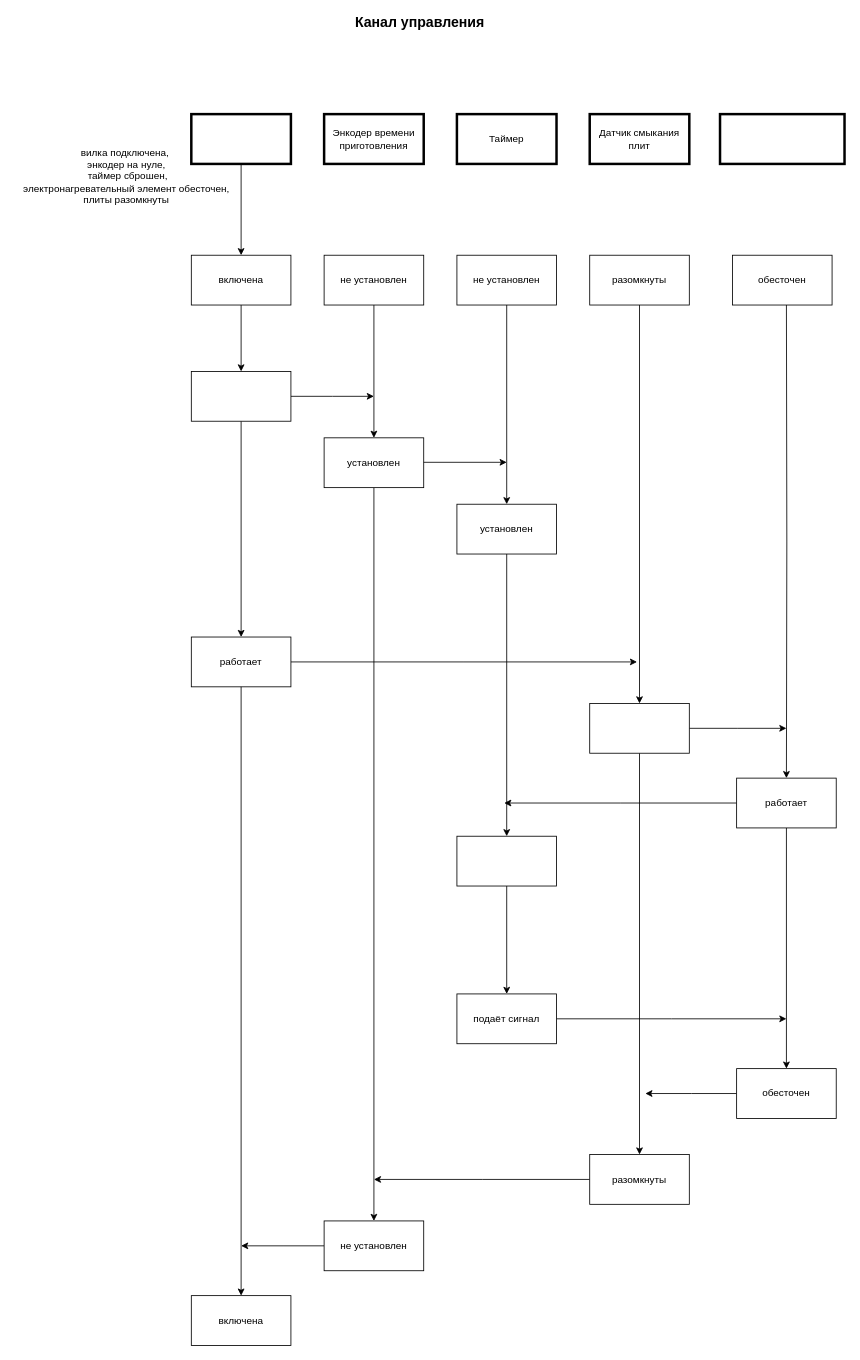
Some shapes in this 860 by 1360 pixel diagram are drawn without their labels. The centre of each missing label's shape, as x and y in pixels:
"сомкнуты" goes at point 639,728.
"считает" goes at point 506,860.
"установка таймера" goes at point 240,396.
"Электровафельница" goes at point 241,138.
"Электронагревательный элемент" goes at point 781,138.
